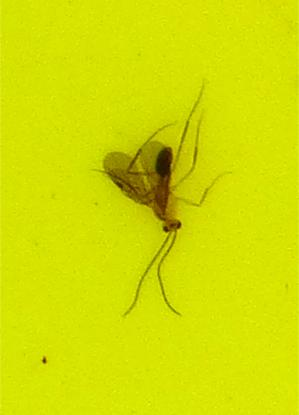Hymenoptera: (100, 100, 199, 315)
